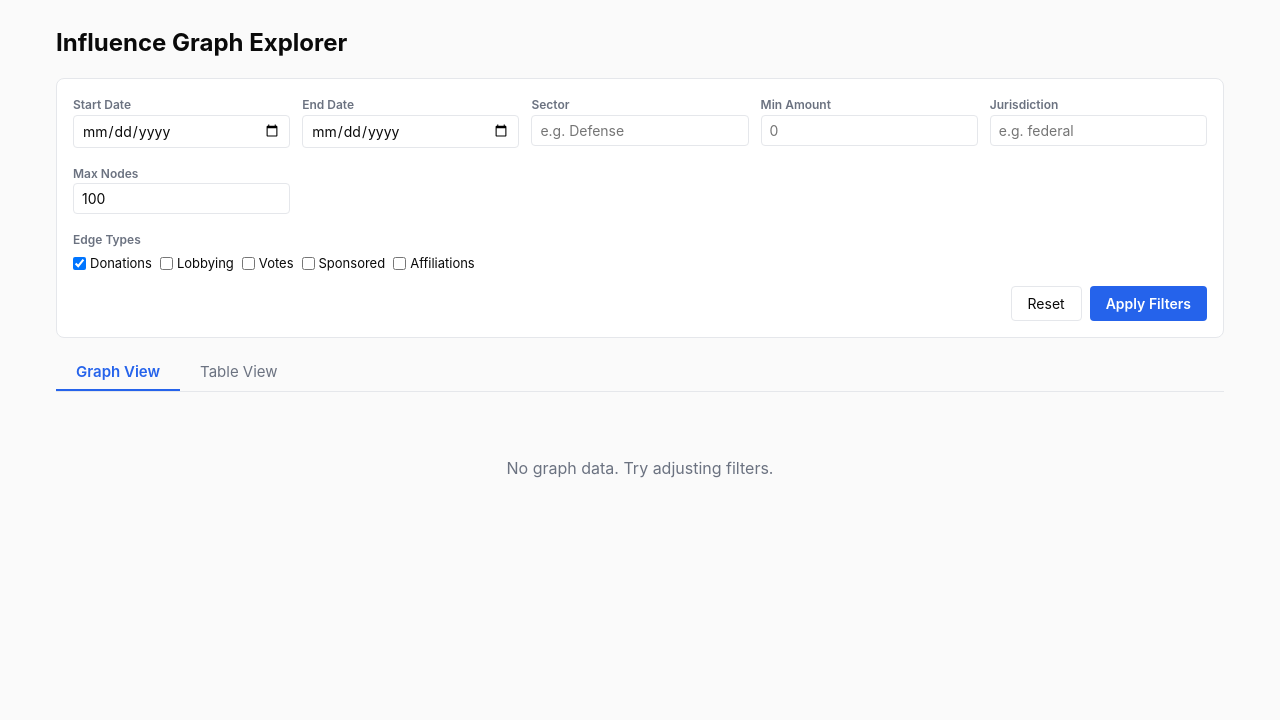
Test case: GraphPage › resets state on reset button click
Click the button "Apply Filters".
click(1148, 303)  # box 1090,286 -> 1207,321
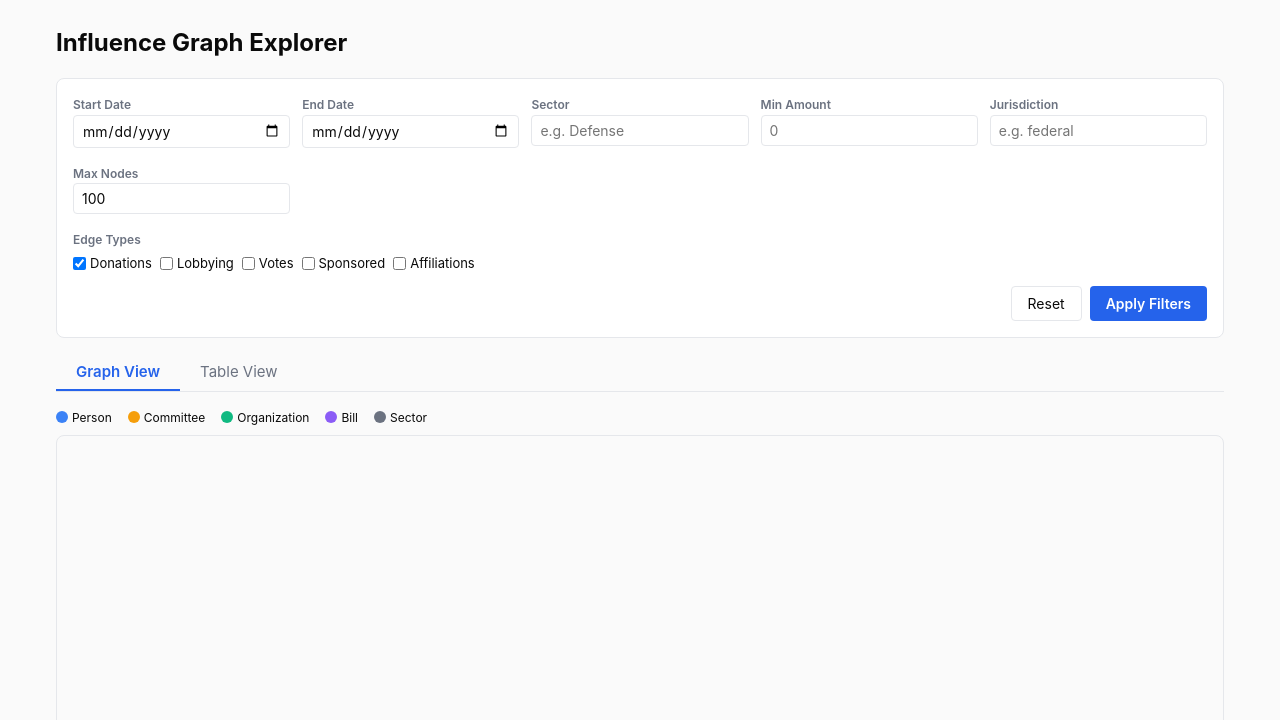
Click the button "Reset".
click(1046, 303)  # box 1011,286 -> 1082,321
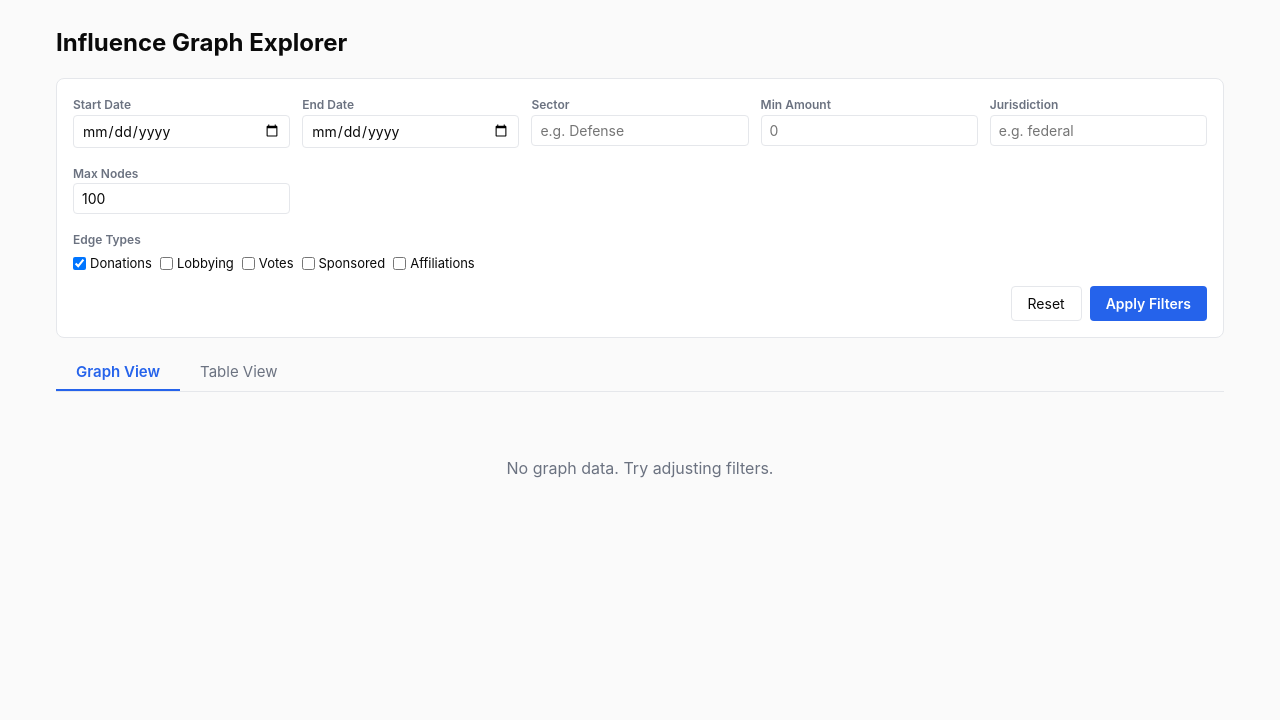
Expected: the text "No graph data. Try adjusting filters." is shown, 506,458 -> 773,478
